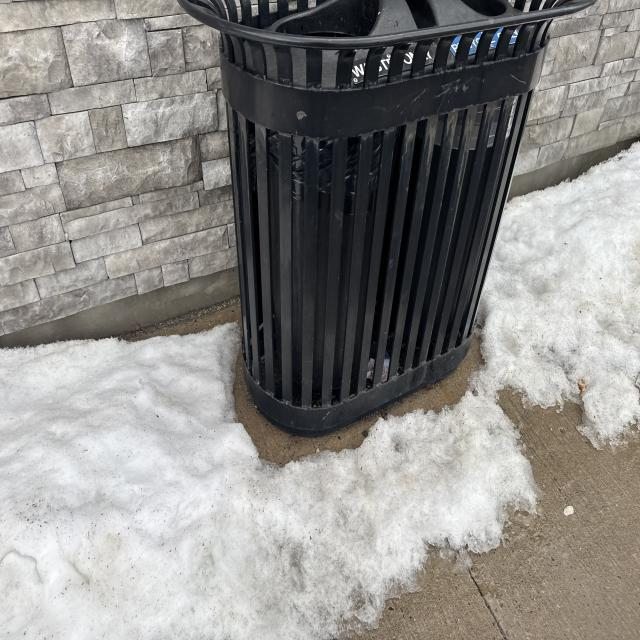Dustbin: (176, 0, 600, 437)
